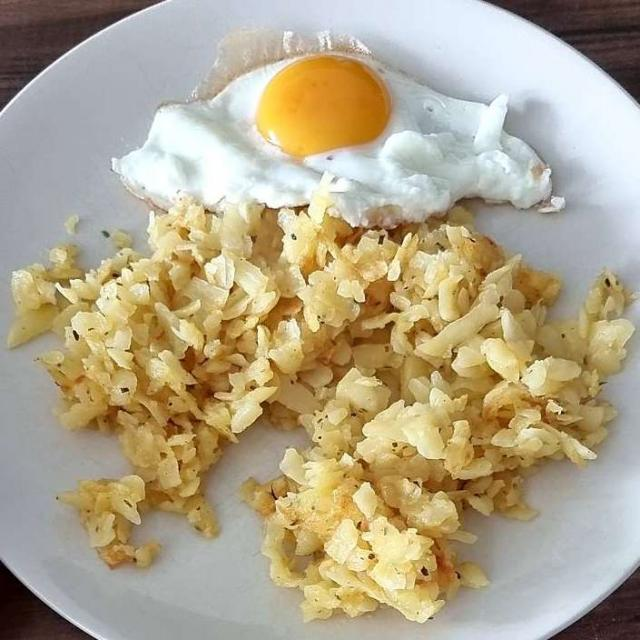egg: (117, 50, 557, 215)
rosti: (25, 215, 617, 611)
